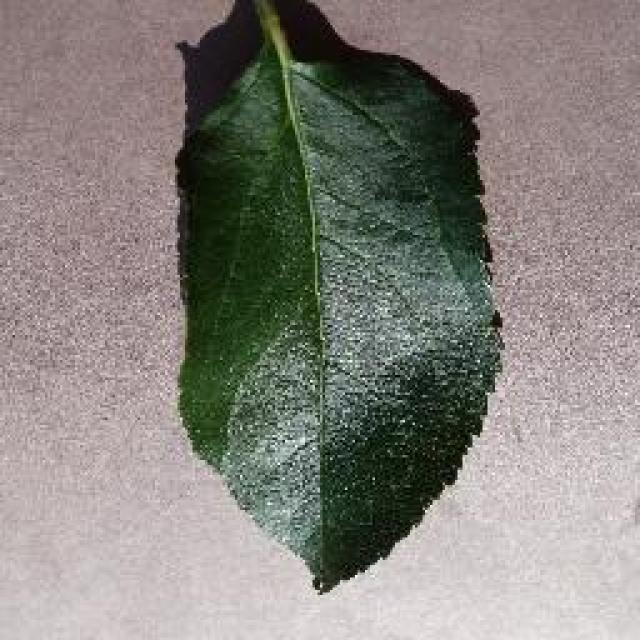apple healthy: (170, 0, 505, 592)
